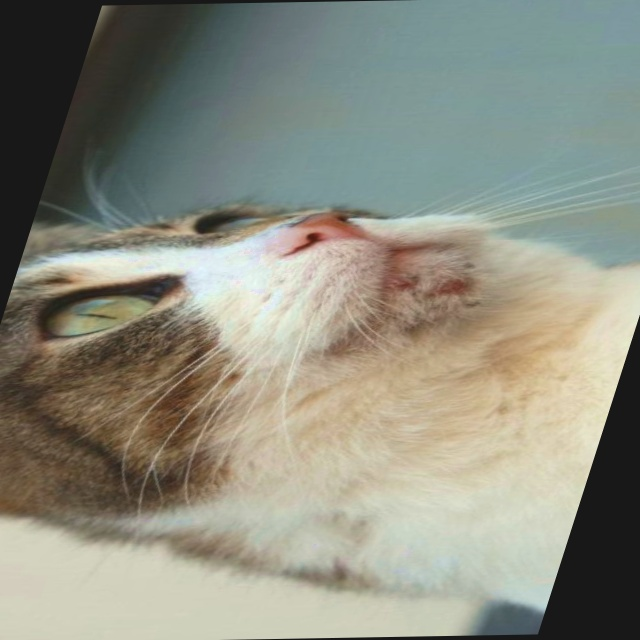acne: (374, 252, 504, 332)
